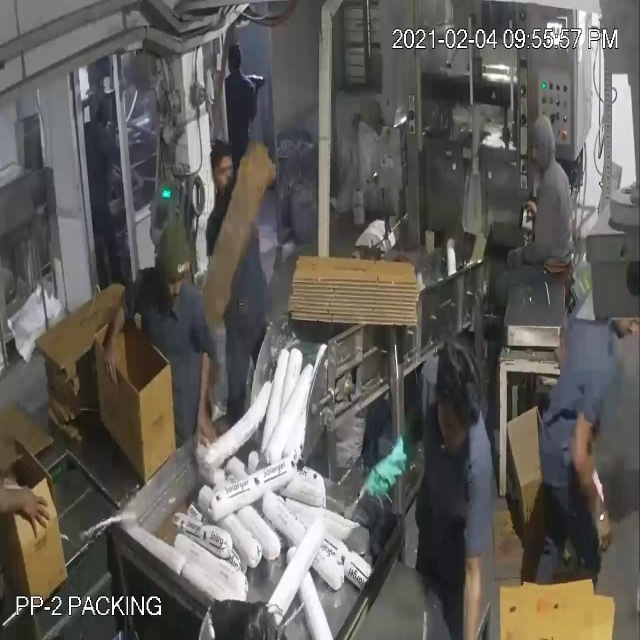Guantes: (358, 431, 419, 504)
Sin_guantes: (568, 388, 621, 569), (1, 461, 62, 564), (184, 332, 221, 464), (452, 524, 493, 640), (99, 283, 135, 387)
